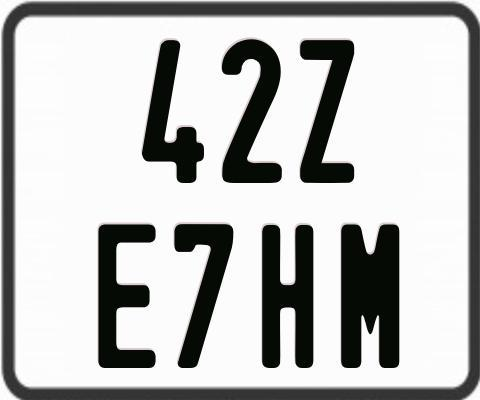2: (219, 38, 285, 187)
4: (141, 38, 204, 186)
7: (173, 222, 233, 372)
E: (96, 222, 159, 370)
H: (261, 223, 315, 368)
M: (340, 221, 398, 370)
Z: (298, 39, 356, 185)
